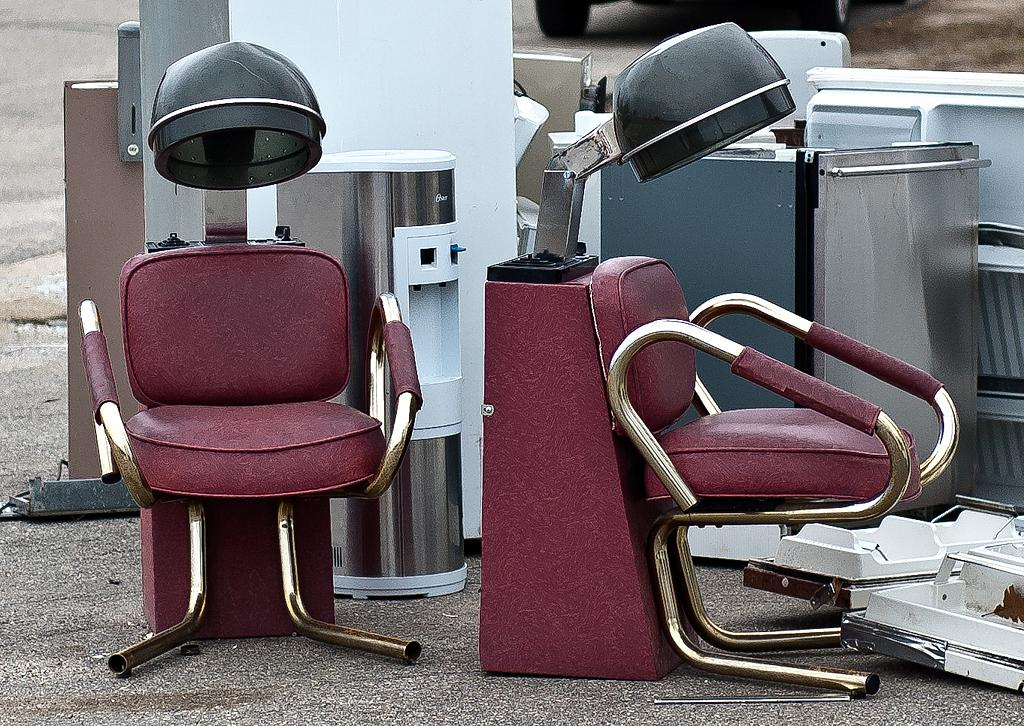Chair: (573, 268, 954, 677), (78, 235, 420, 679)
